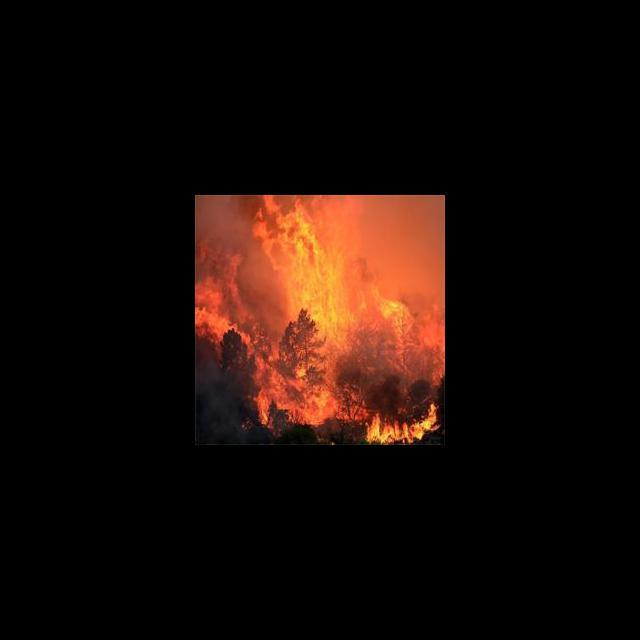Fire: (196, 195, 442, 443)
